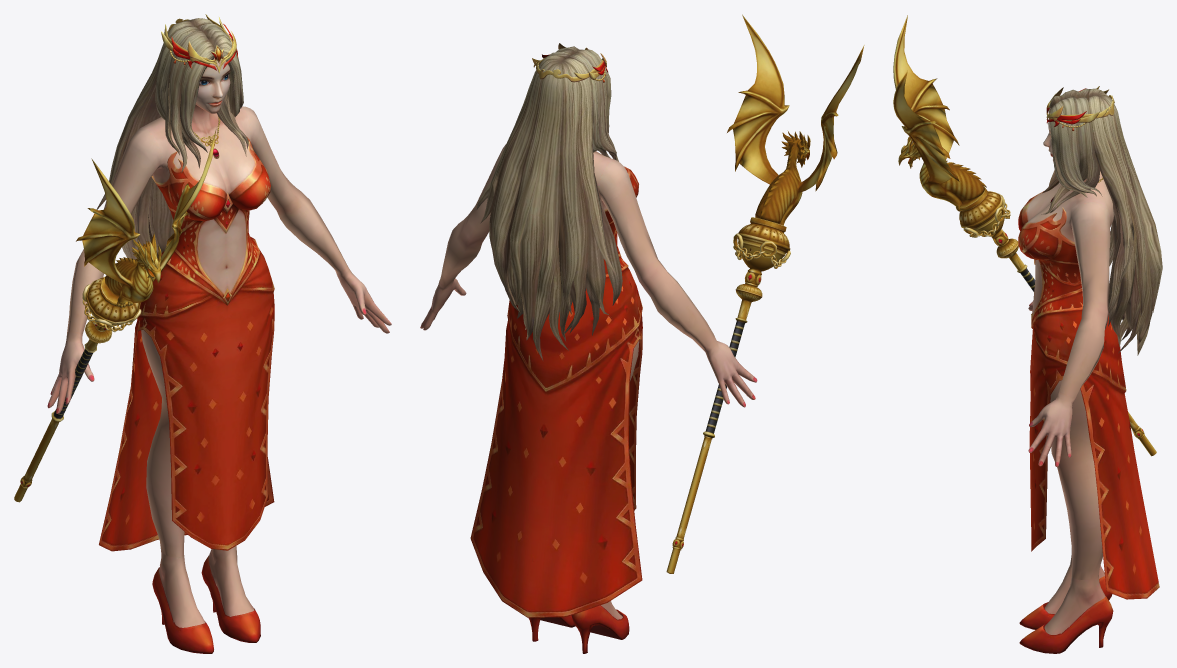
The model's file is fireborn_aveena.glb.
3 views of the same model, side by side, from view 1: azimuth 30°, elevation 25°; view 2: azimuth 150°, elevation 25°; view 3: azimuth 270°, elevation 25° (orthographic). The views are drawn at different scales.
Visible parts, largest first — view 1: mage_aveena_fireborn, aveena_fireborn_weapon1, Crown; view 2: mage_aveena_fireborn, aveena_fireborn_weapon1, Crown; view 3: mage_aveena_fireborn, aveena_fireborn_weapon1, Crown.
Boxes of the visible parts, x1,y1,x2,y2 form: mage_aveena_fireborn: [47, 18, 391, 653]; aveena_fireborn_weapon1: [14, 129, 216, 502]; Crown: [161, 14, 237, 158]; mage_aveena_fireborn: [420, 46, 757, 653]; aveena_fireborn_weapon1: [666, 14, 864, 573]; Crown: [532, 43, 607, 82]; mage_aveena_fireborn: [1018, 88, 1162, 653]; aveena_fireborn_weapon1: [893, 15, 1156, 456]; Crown: [1046, 86, 1114, 202].
Bounding box in the file's own units: 1.15 × 1.77 × 0.7993.
Materials: 3 (3 with a texture image).
